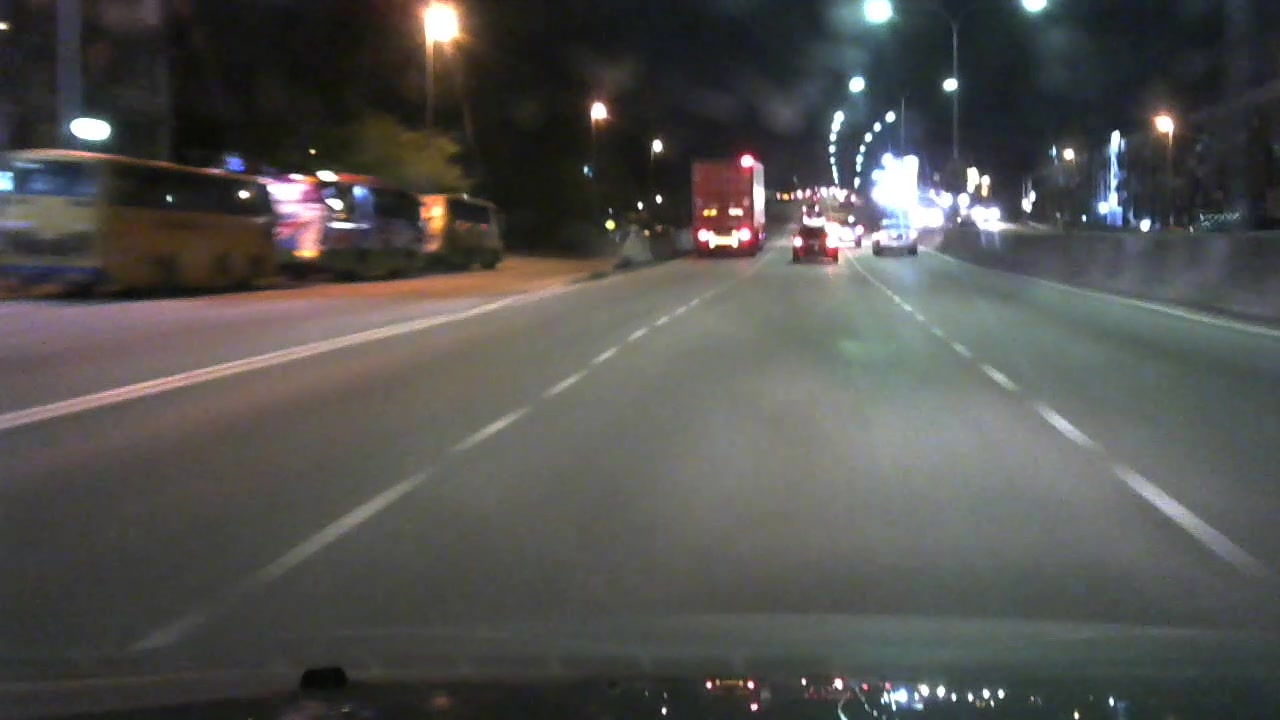Car: (778, 221, 844, 272), (868, 215, 918, 254)
